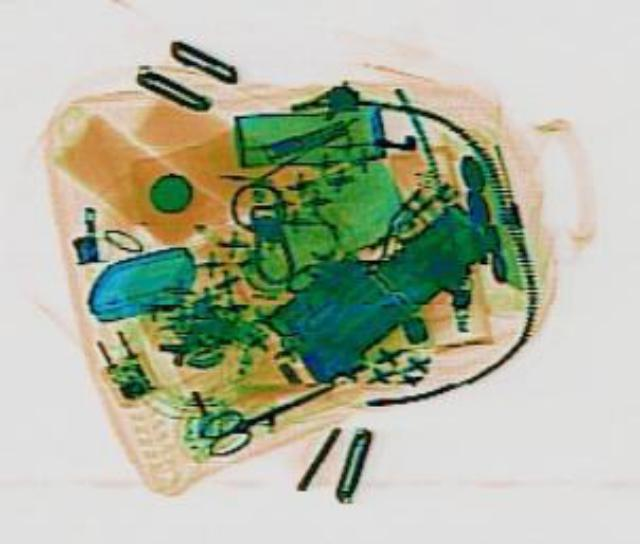Scissors: (182, 362, 344, 459)
